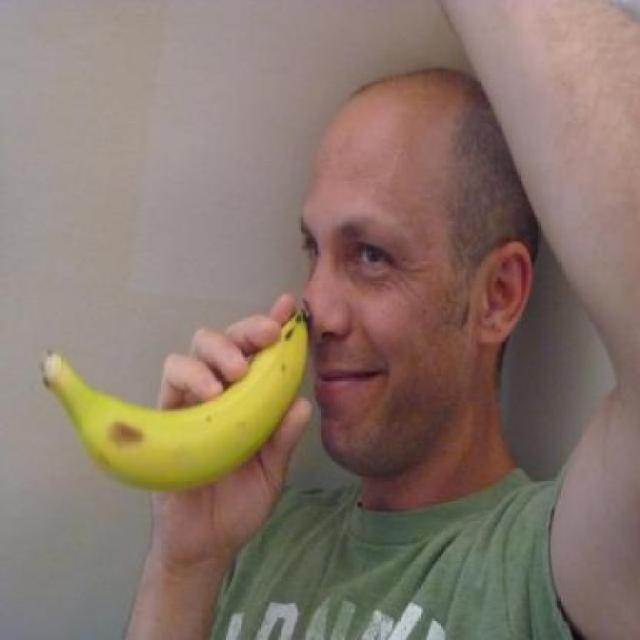Banana: (37, 294, 314, 494)
